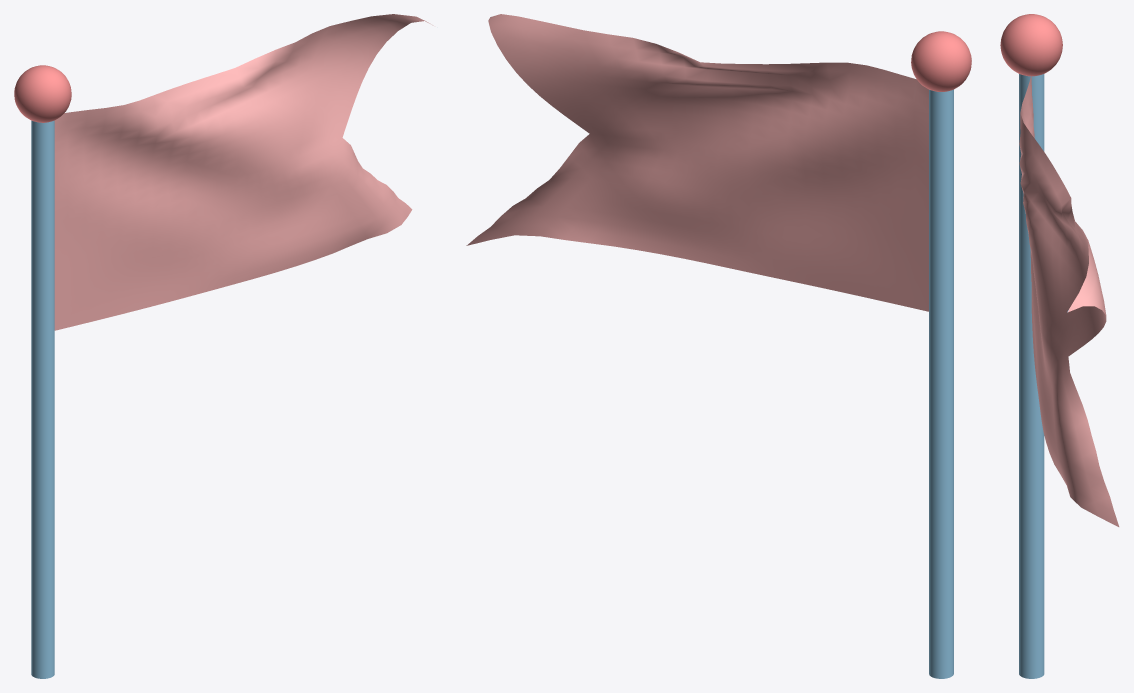
File: flag.fbx
3 views of the same model, side by side, from view 1: azimuth 30°, elevation 25°; view 2: azimuth 150°, elevation 25°; view 3: azimuth 270°, elevation 25° (orthographic). The views are drawn at different scales.
Parts seen in each view (by area): view 1: flag3_l; view 2: flag3_l; view 3: flag3_l.
Part boxes in pixels (x1=…): flag3_l: x1=14, y1=14, x2=433, y2=678; flag3_l: x1=466, y1=14, x2=971, y2=678; flag3_l: x1=1000, y1=14, x2=1119, y2=678.
Bounding box in the file's own units: 2.59 × 3.44 × 0.5658.
1 material, 1 textured.
